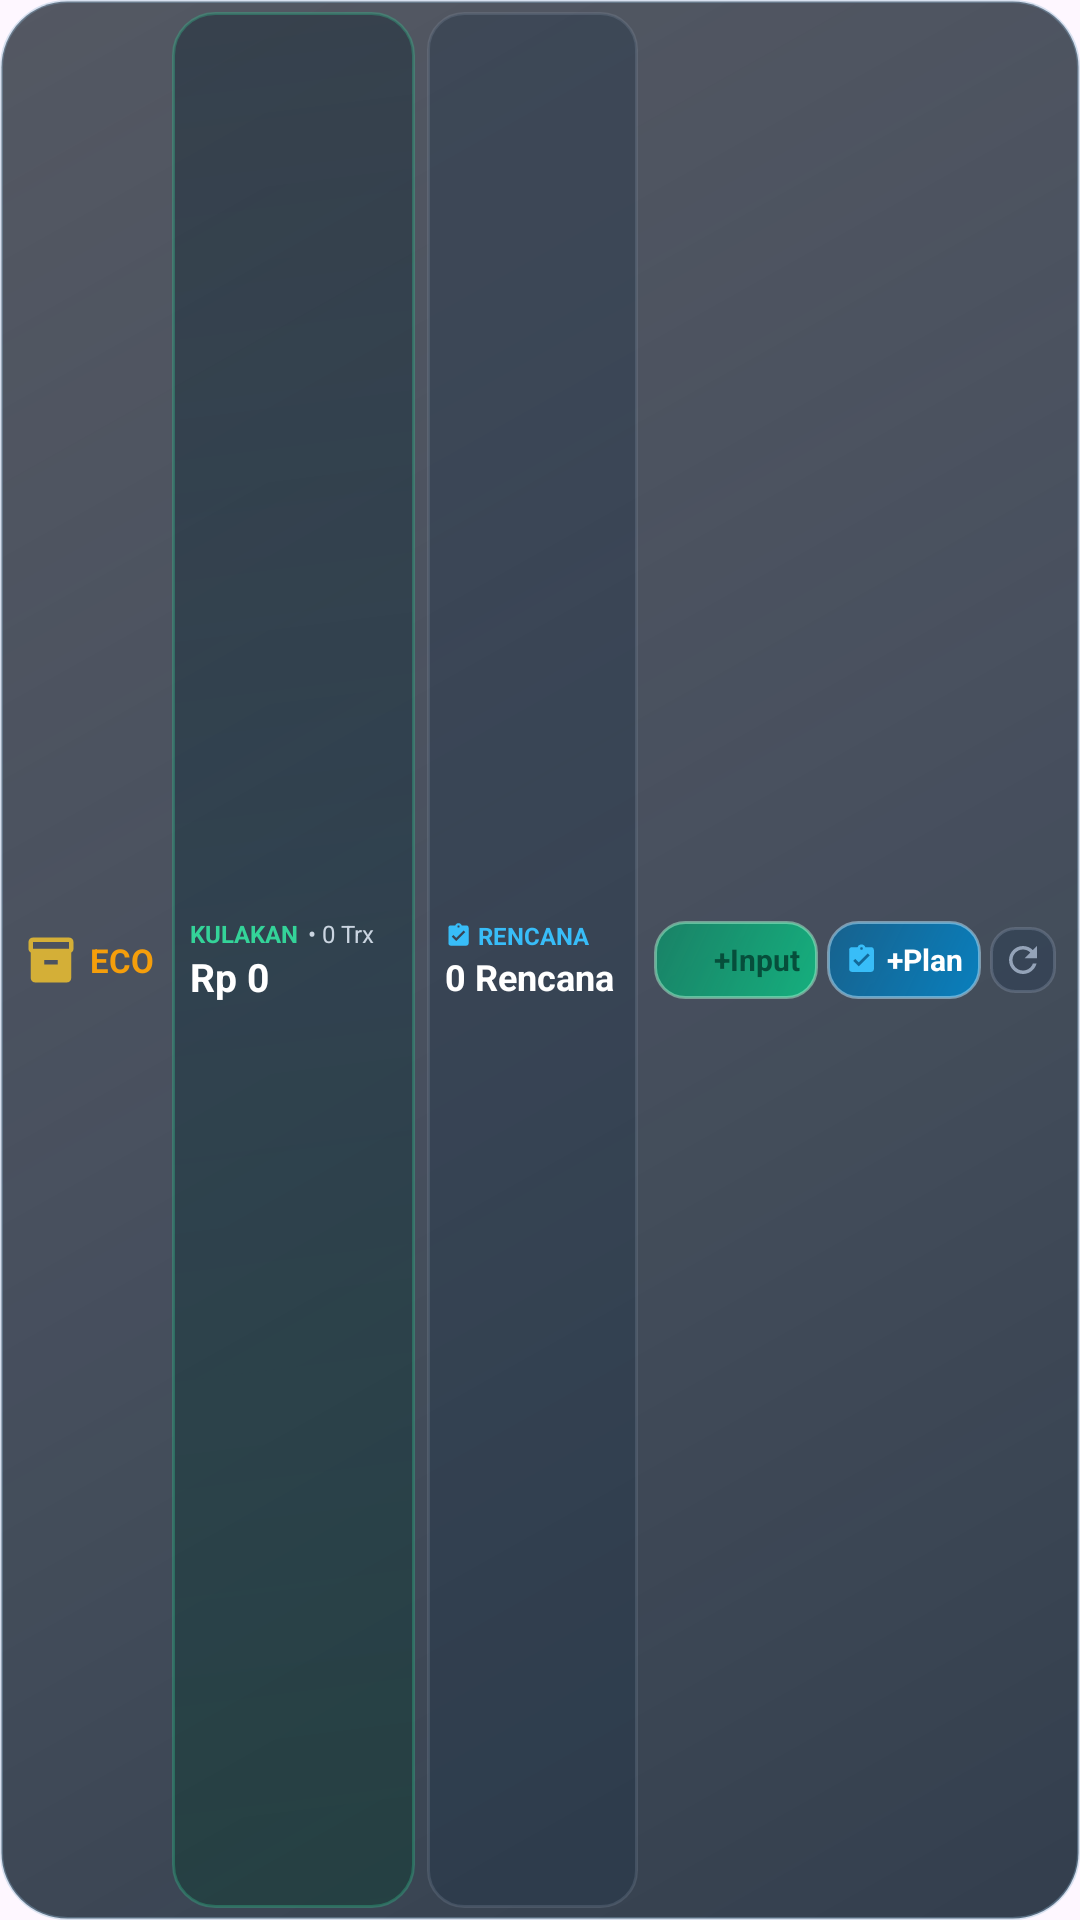

Locate icon controls on the screen. Image size 1080×1920, boxes as [left=x1, top=y1, right=x2, bottom=y2].
Segarkan: [left=990, top=927, right=1056, bottom=993]
widget inventory: [left=28, top=937, right=74, bottom=983]
